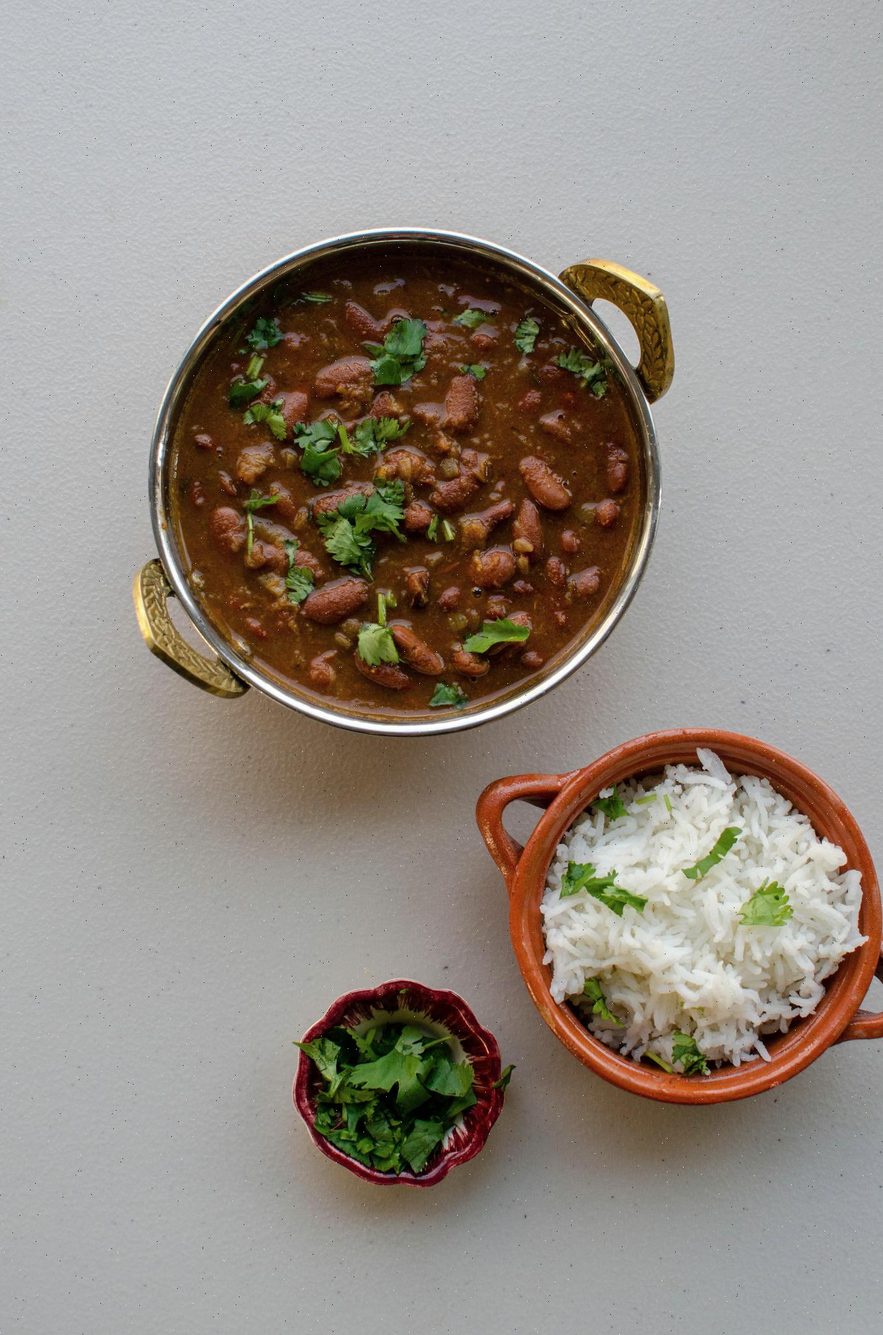rajma: (160, 264, 627, 711)
rice: (557, 758, 860, 1078)
